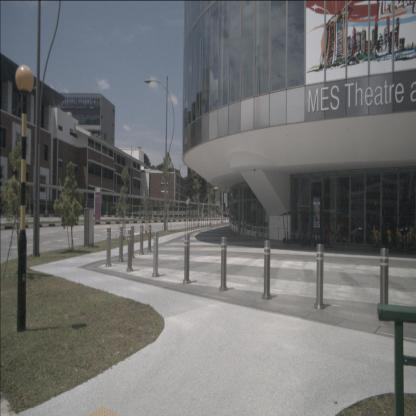vehicle-car: (223, 210, 232, 218)
